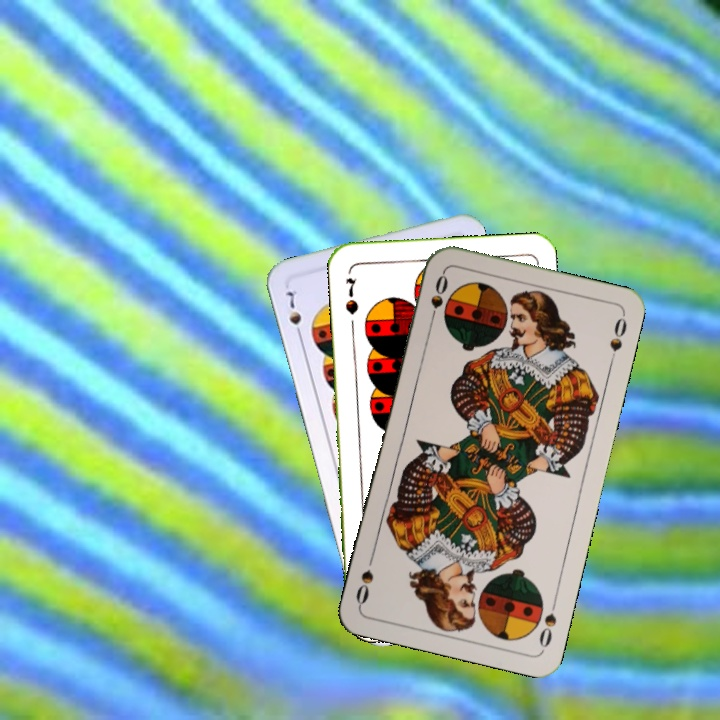S7: (283, 287, 305, 342), (341, 274, 361, 317)
SO: (426, 269, 451, 327), (535, 594, 560, 651)
